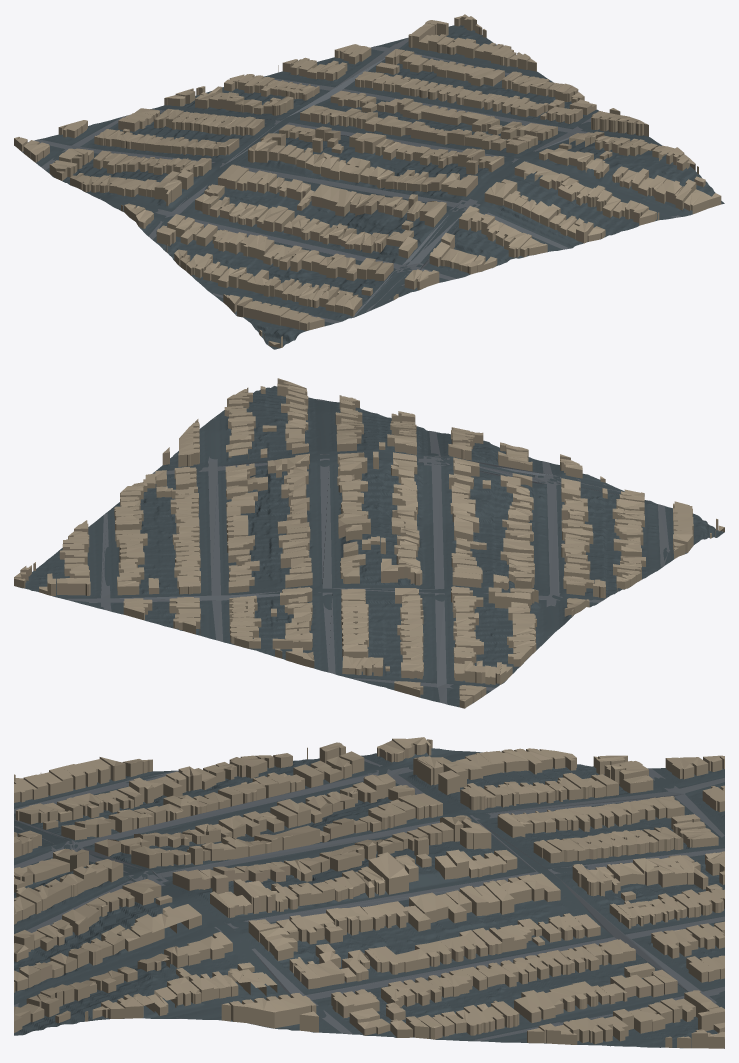
The model's file is epsg26910-1431-10871.lod0.glb.
The picture shows the model from 3 angles, top to bottom: view 1: azimuth 30°, elevation 25°; view 2: azimuth 150°, elevation 25°; view 3: azimuth 270°, elevation 25°; orthographic projection. The views are drawn at different scales.
Visible parts, largest first — view 1: epsg26910-1431-10871-lod0; view 2: epsg26910-1431-10871-lod0; view 3: epsg26910-1431-10871-lod0.
Boxes of the visible parts, bbox=[...] form: epsg26910-1431-10871-lod0: bbox=[14, 14, 724, 349]; epsg26910-1431-10871-lod0: bbox=[14, 378, 724, 708]; epsg26910-1431-10871-lod0: bbox=[14, 737, 724, 1048].
Size of the model in its own units: 384 by 54.57 by 384.
